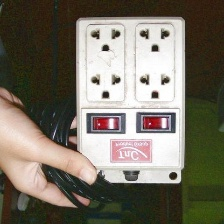three_eye_plug: (69, 15, 188, 176)
